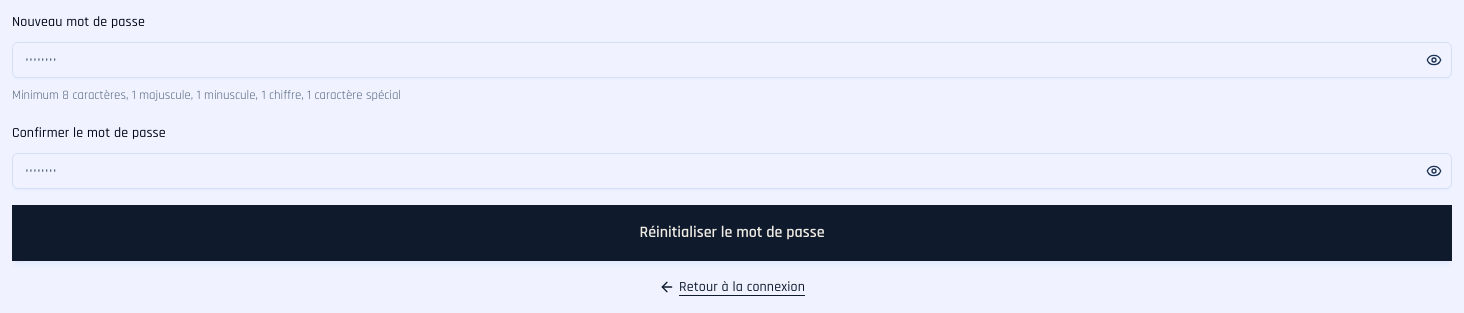
Test case: ResetPasswordForm › Soumission › shows loading state during submission
The width and height of the screenshot is (1464, 313).
In the password field with placeholder "••••••••" below "Nouveau mot de passe": (732, 60) left=12, top=42, right=1452, bottom=78, type "NewPassword123!"
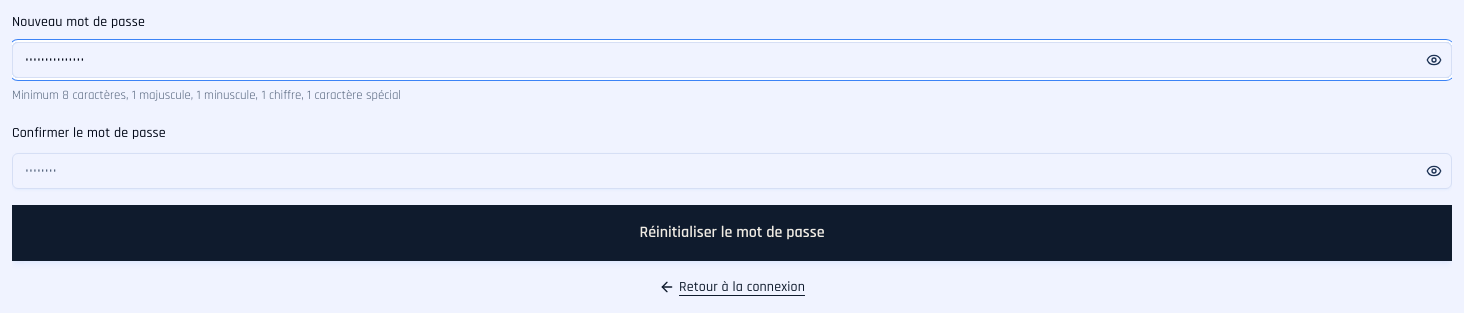
In the password field with placeholder "••••••••": (732, 171) left=12, top=153, right=1452, bottom=189, type "NewPassword123!"
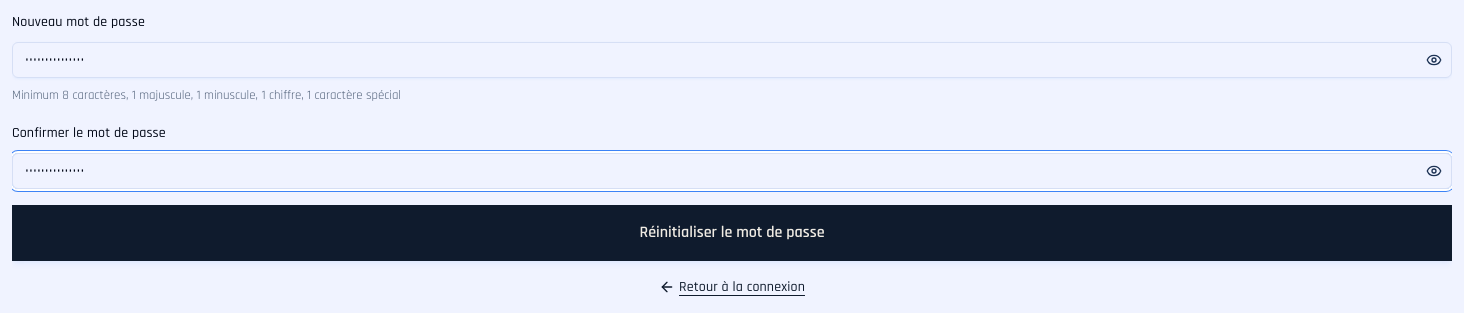
Click the button "Réinitialiser le mot de passe": (732, 233) left=12, top=205, right=1452, bottom=261
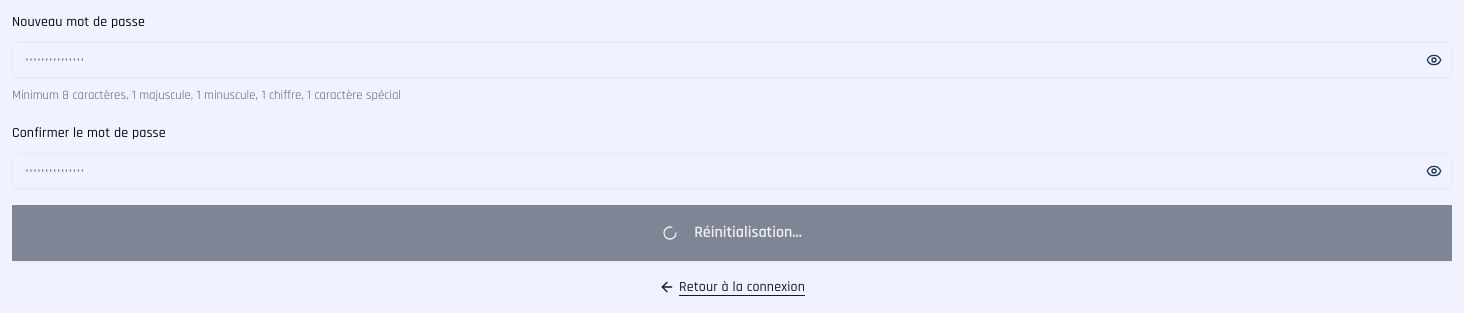
Check: the button "Réinitialisation..." is shown, box left=12, top=205, right=1452, bottom=261
